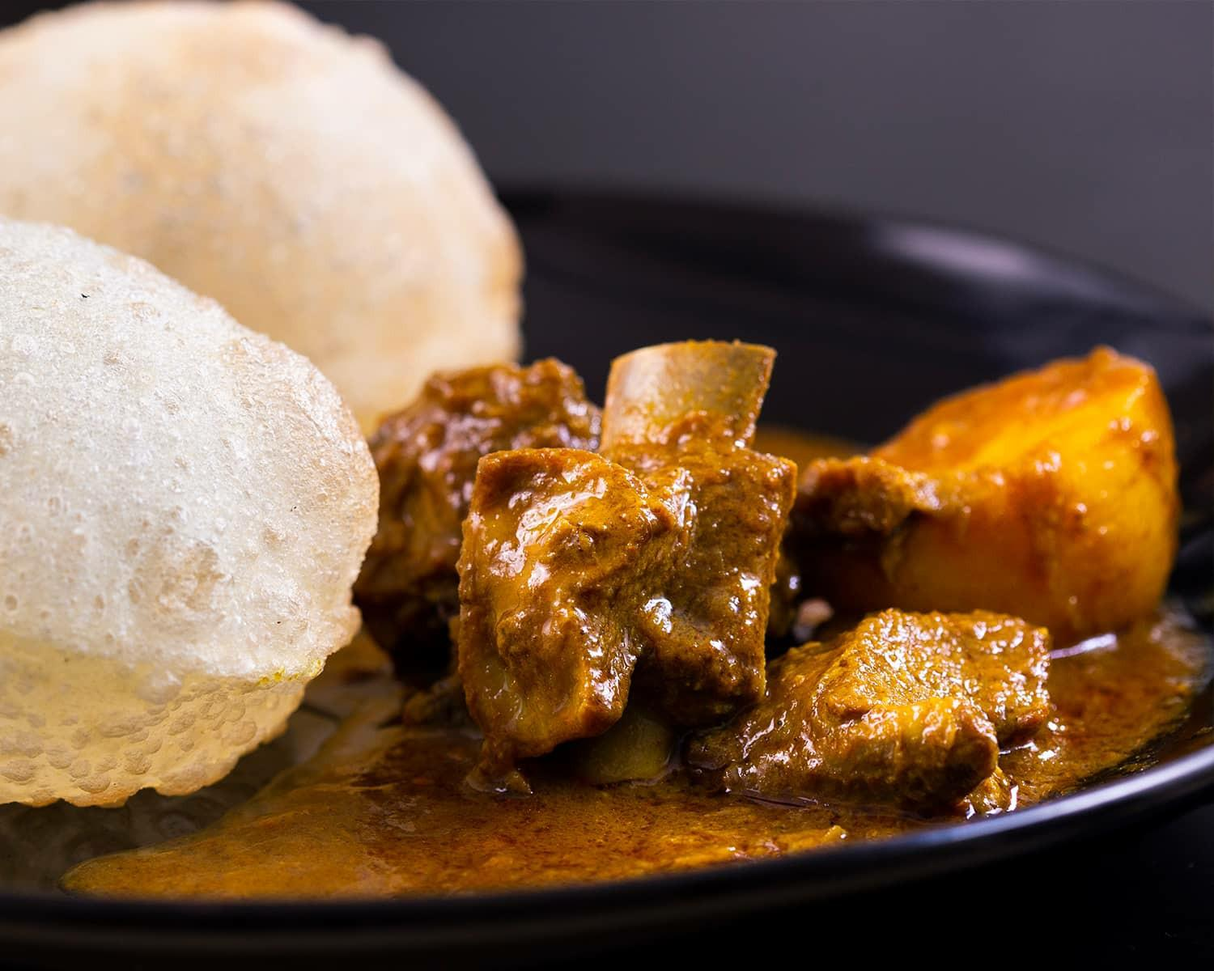Bhatura: (0, 0, 519, 445), (0, 214, 377, 803)
MuttonCurry: (353, 335, 1214, 821)
